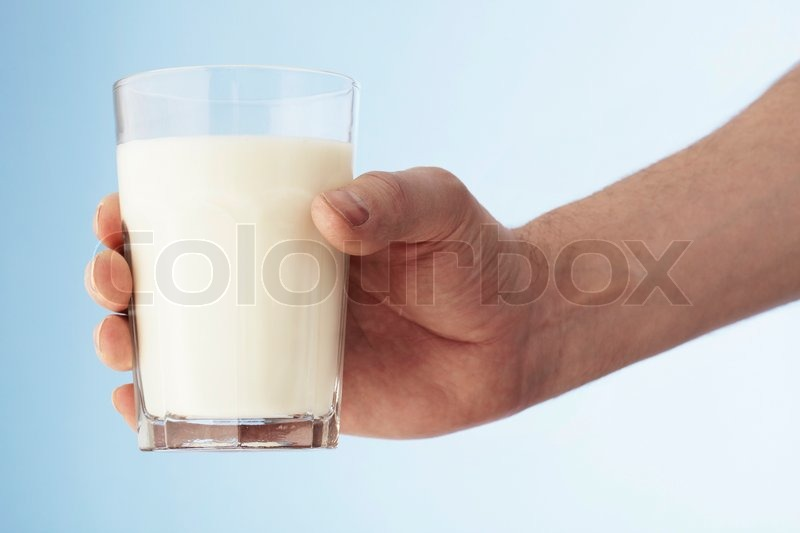glass of milk: (114, 68, 351, 449)
